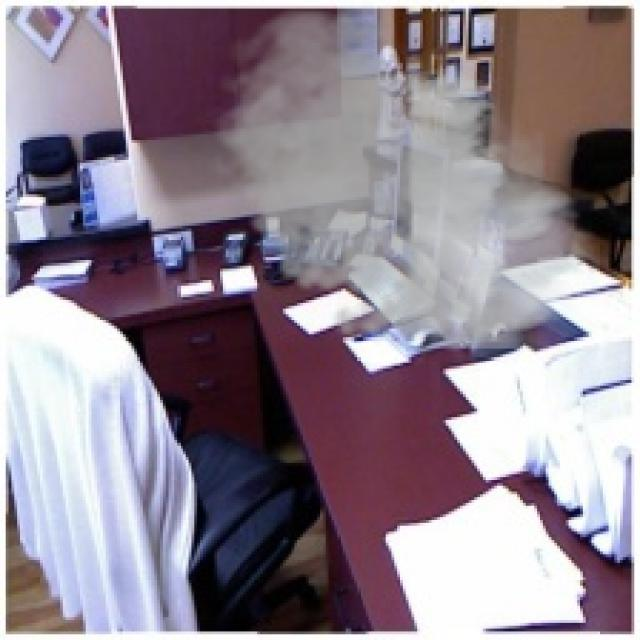smoke: (200, 0, 600, 363)
